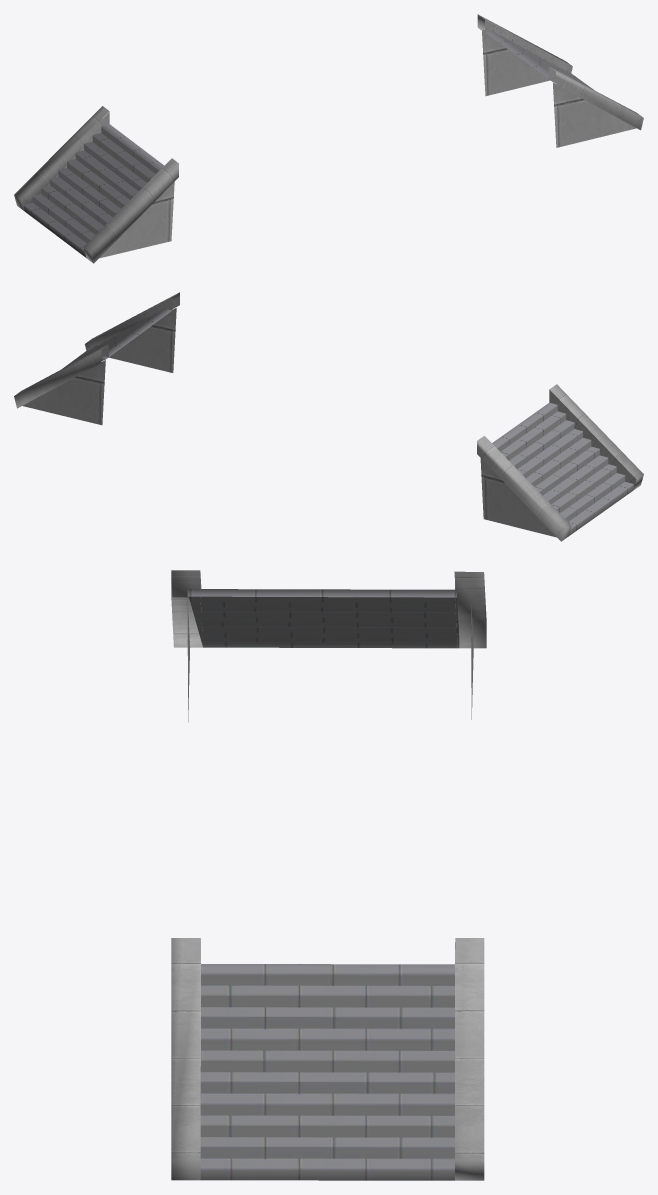
The model's file is Stairs_small.fbx.
3 views of the same model, one above another, from view 1: azimuth 30°, elevation 25°; view 2: azimuth 150°, elevation 25°; view 3: azimuth 270°, elevation 25° (orthographic). The views are drawn at different scales.
Visible parts, largest first — view 1: Stairs_02; view 2: Stairs_02; view 3: Stairs_02.
Boxes of the visible parts, x1=… form: Stairs_02: x1=14, y1=14, x2=643, y2=263; Stairs_02: x1=14, y1=292, x2=643, y2=541; Stairs_02: x1=171, y1=570, x2=486, y2=1180.
Size of the model in its own units: 1466 by 203 by 362.
